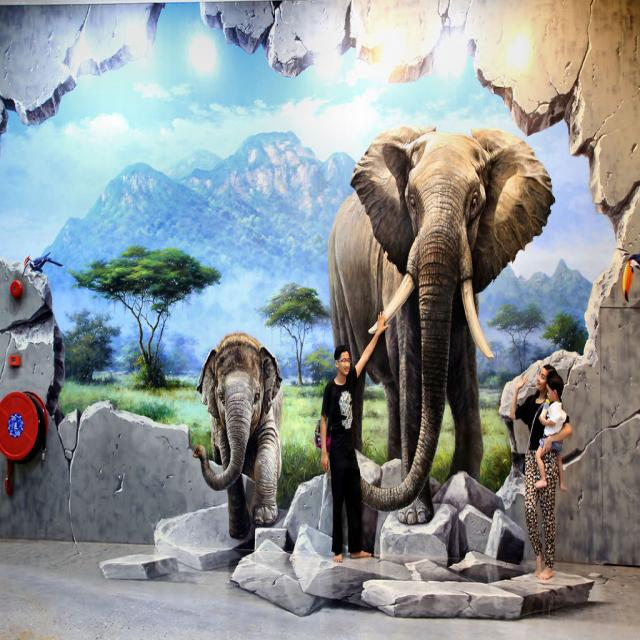elephant: (335, 116, 543, 546), (183, 332, 283, 547)
